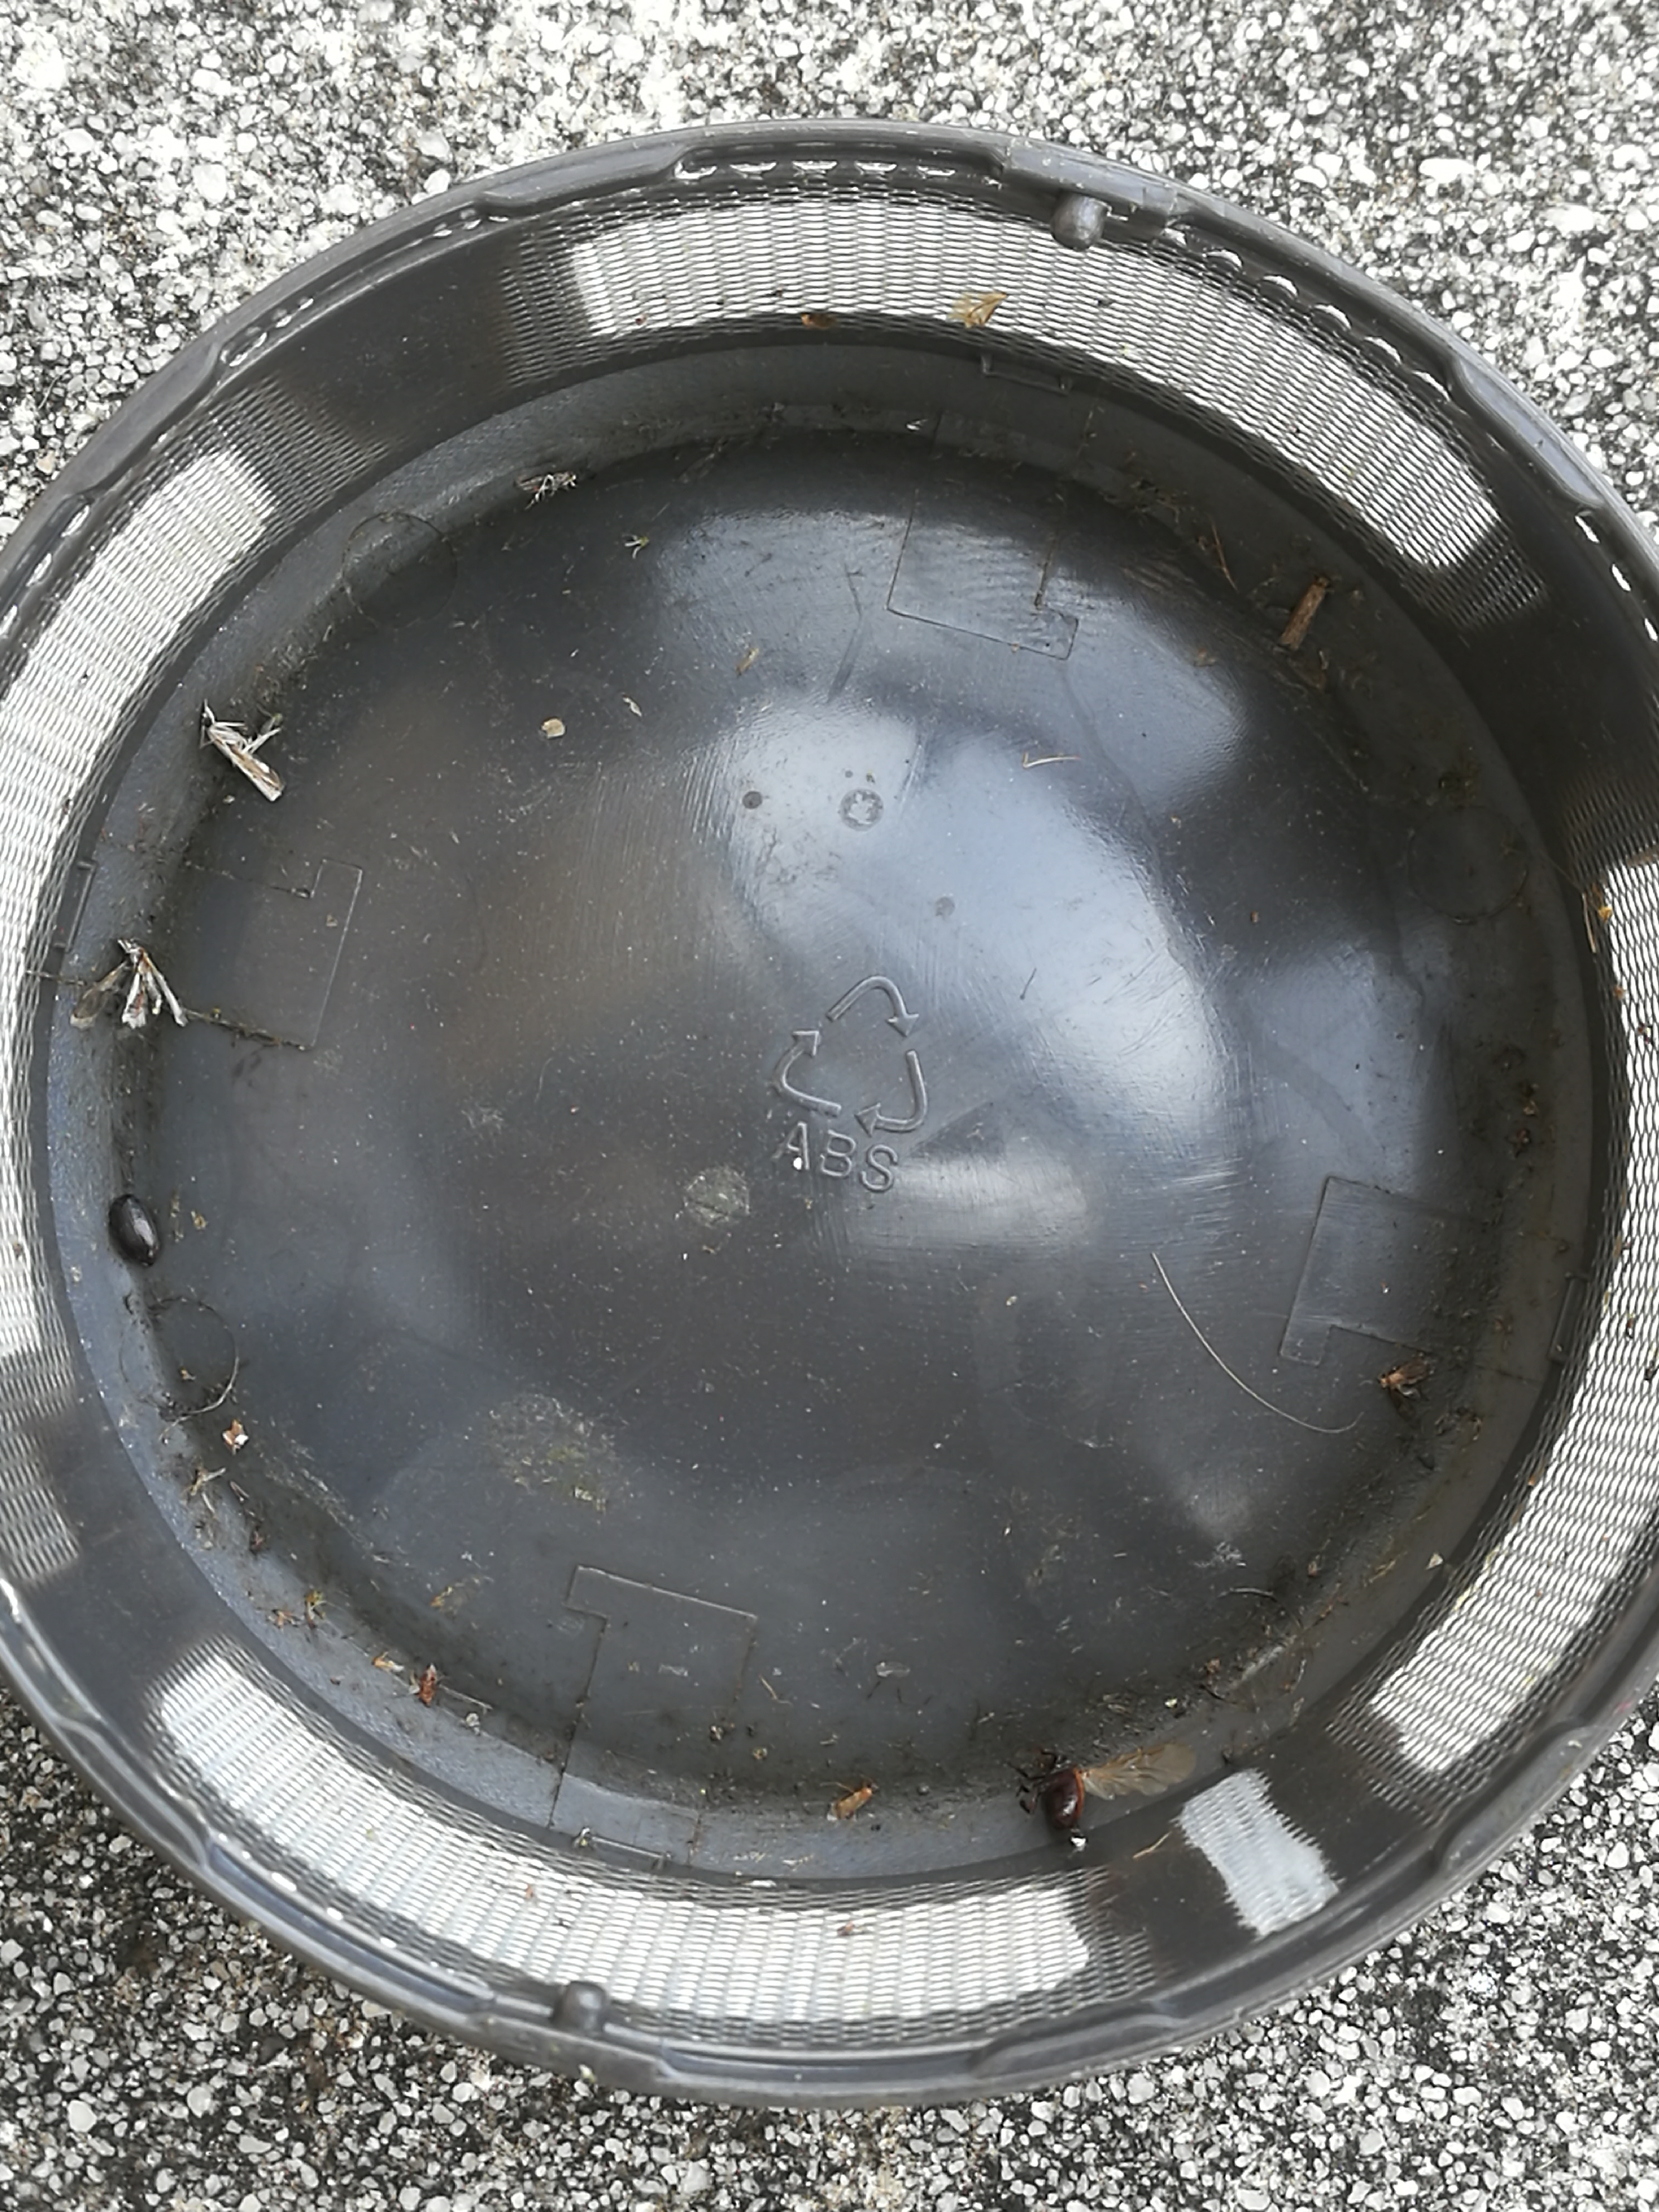beetle: (1042, 1766, 1082, 1831)
mosquito: (202, 709, 288, 801), (1277, 578, 1333, 650), (518, 472, 570, 493)
moth: (73, 939, 186, 1028), (1378, 1360, 1427, 1430)
